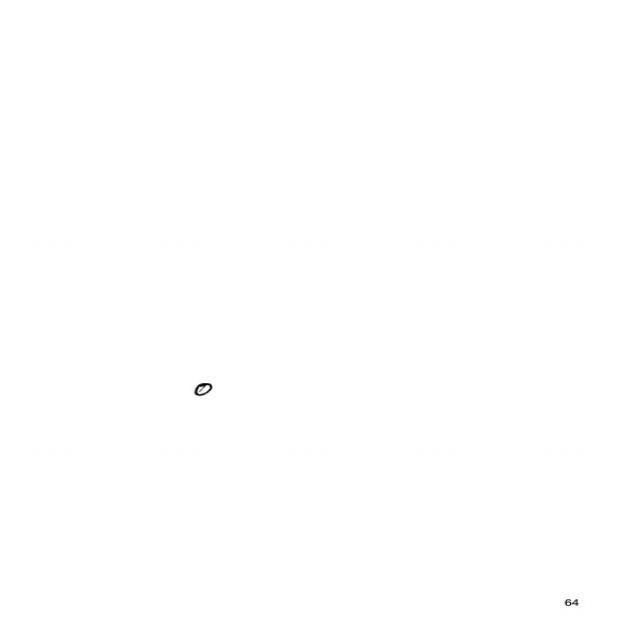5 -five-: (192, 382, 215, 397)
